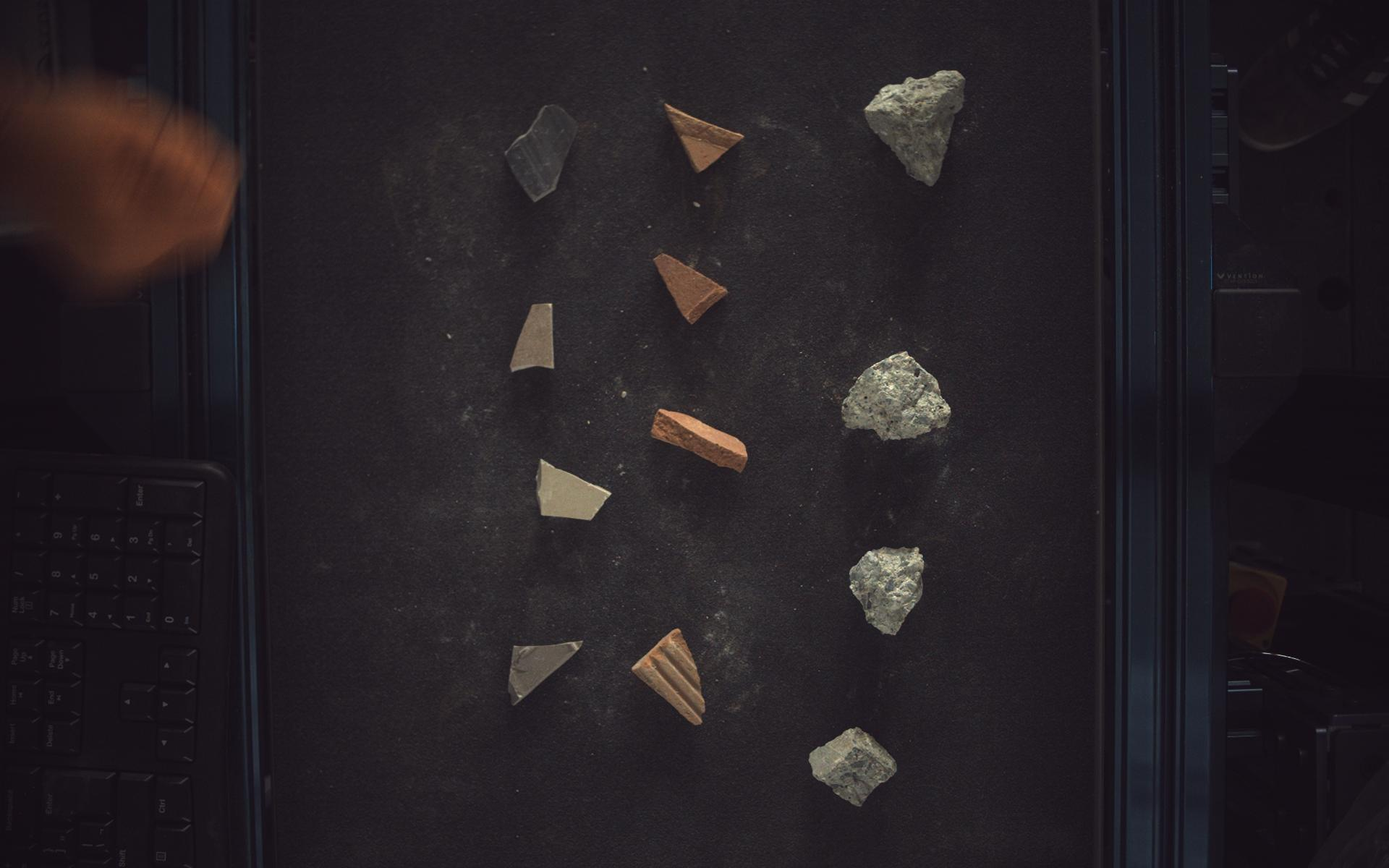brick: (632, 629, 707, 726), (652, 410, 749, 472), (666, 102, 744, 171), (655, 253, 729, 323)
concrete: (866, 69, 967, 185), (844, 352, 953, 441), (810, 729, 899, 808), (851, 548, 926, 636)
tile: (506, 103, 579, 201), (509, 642, 584, 707), (537, 460, 611, 521), (510, 302, 555, 372)
